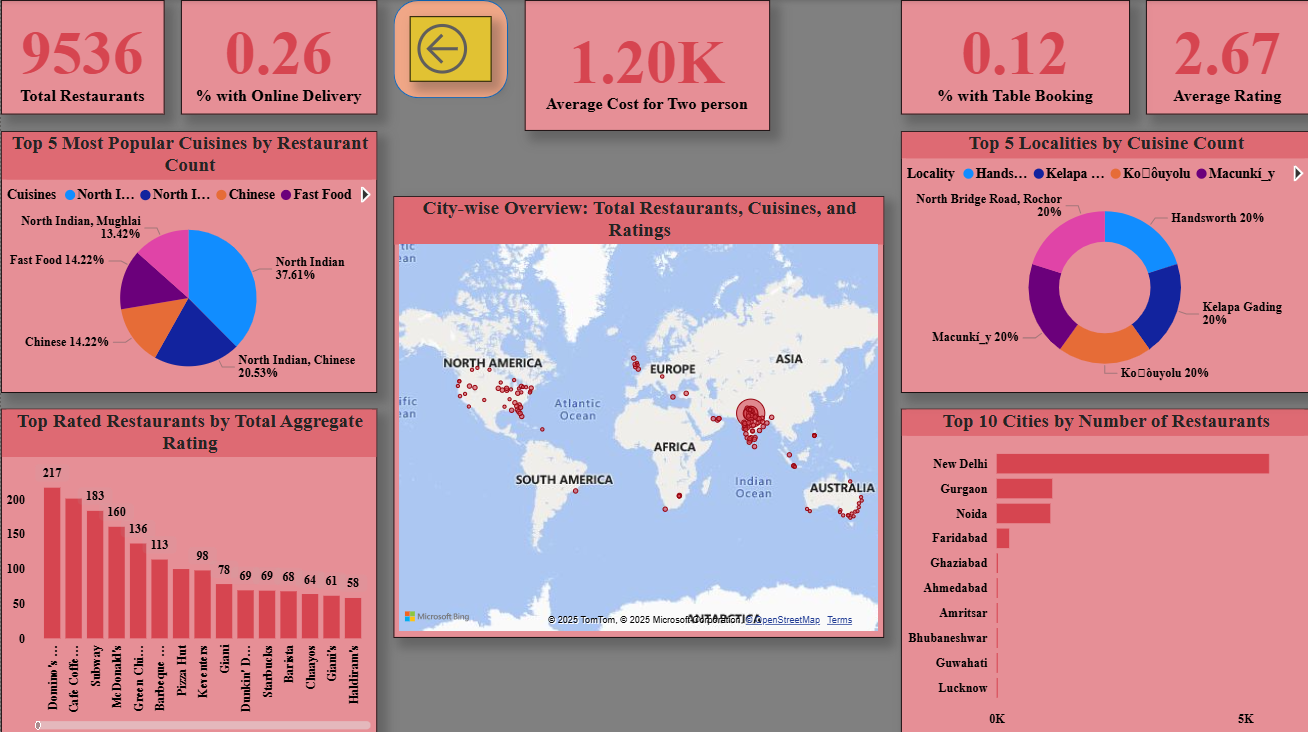

Layout of this report page (visuals, bound fields, positions):
{"tool":"powerbi","page":{"name":"Restaurant Coverage & Performance Overview","canvas":[1280,720],"ordinal":1},"visuals":[{"type":"shape","box":[384,0,112,96],"z":0},{"type":"card","fields":{"Values":["zomato.Total Restaurants"]},"box":[0,0,160,112],"z":1000},{"type":"card","fields":{"Values":["zomato.Average Cost for Two person"]},"box":[512,0,240,128],"z":2000},{"type":"card","fields":{"Values":["zomato.Average Rating"]},"box":[1120,0,160,112],"z":3000},{"type":"map","title":"City-wise Overview: Total Restaurants, Cuisines, and Ratings","fields":{"Category":["zomato.City"],"Size":["CountNonNull(zomato.Restaurant ID)"]},"box":[384,192,480,432],"z":4000},{"type":"barChart","title":"Top 10 Cities by Number of Restaurants","fields":{"Category":["zomato.City"],"Y":["zomato.Total Restaurants"]},"box":[880,400,400,320],"z":5000},{"type":"pieChart","title":"Top 5 Most Popular Cuisines by Restaurant Count","fields":{"Category":["zomato.Cuisines"],"Y":["CountNonNull(zomato.Restaurant ID)"]},"box":[0,128,368,256],"z":6000},{"type":"card","fields":{"Values":["zomato.% with Online Delivery"]},"box":[176,0,192,112],"z":7000},{"type":"card","fields":{"Values":["zomato.% with Table Booking"]},"box":[880,0,224,112],"z":8000},{"type":"columnChart","title":"Top Rated Restaurants by Total Aggregate Rating","fields":{"Y":["Sum(zomato.Aggregate rating)"],"Category":["zomato.Restaurant Name"]},"box":[0,400,368,320],"z":9000},{"type":"donutChart","title":"Top 5 Localities by Cuisine Count","fields":{"Category":["zomato.Locality"],"Y":["CountNonNull(zomato.Cuisines)"]},"box":[880,128,400,256],"z":13000},{"type":"actionButton","box":[400,16,80,64],"z":14001}]}

Visuals, with their boxes in screenshot pixels (x1, y1, x2, y2), scaled from the page's 1280x720 canvas onto the 1308x732 screenshot:
shape: pyautogui.locateOnScreen(392, 0, 507, 98)
card - zomato.Total Restaurants: pyautogui.locateOnScreen(0, 0, 164, 114)
card - zomato.Average Cost for Two person: pyautogui.locateOnScreen(523, 0, 768, 130)
card - zomato.Average Rating: pyautogui.locateOnScreen(1144, 0, 1307, 114)
"City-wise Overview: Total Restaurants, Cuisines, and Ratings" map: pyautogui.locateOnScreen(392, 195, 883, 634)
"Top 10 Cities by Number of Restaurants" barChart: pyautogui.locateOnScreen(899, 407, 1307, 731)
"Top 5 Most Popular Cuisines by Restaurant Count" pieChart: pyautogui.locateOnScreen(0, 130, 376, 390)
card - zomato.% with Online Delivery: pyautogui.locateOnScreen(180, 0, 376, 114)
card - zomato.% with Table Booking: pyautogui.locateOnScreen(899, 0, 1128, 114)
"Top Rated Restaurants by Total Aggregate Rating" columnChart: pyautogui.locateOnScreen(0, 407, 376, 731)
"Top 5 Localities by Cuisine Count" donutChart: pyautogui.locateOnScreen(899, 130, 1307, 390)
actionButton: pyautogui.locateOnScreen(409, 16, 491, 81)
